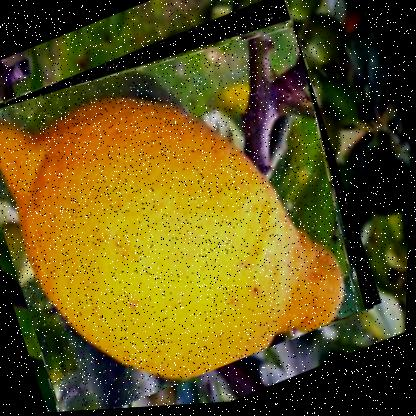lemon: (0, 0, 393, 415)
